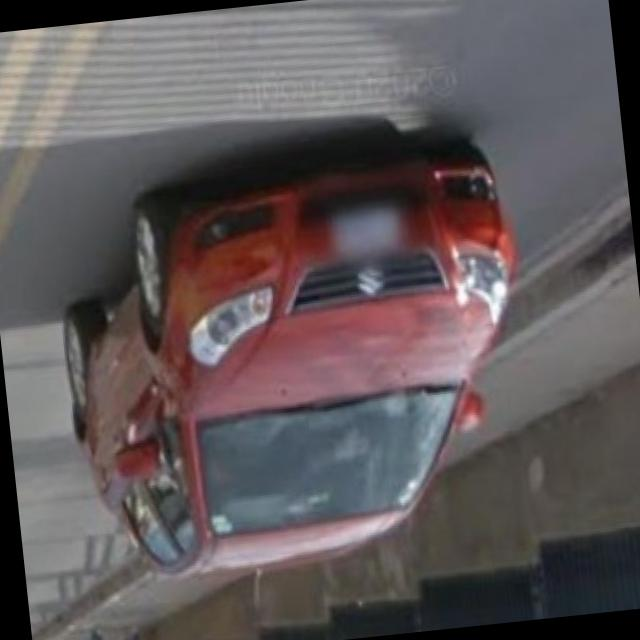car: (38, 124, 554, 588)
